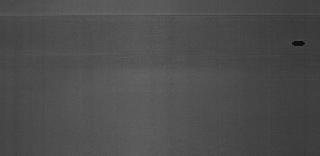punching hole: (291, 39, 307, 49)
welding line: (1, 9, 320, 23)
